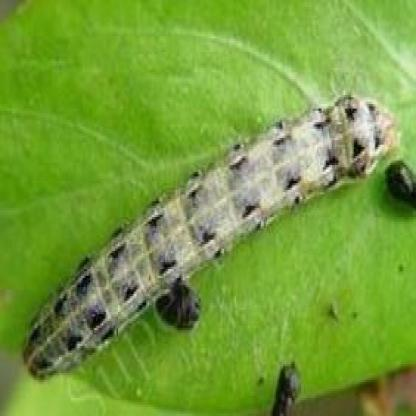armyworm: (10, 47, 412, 409)
